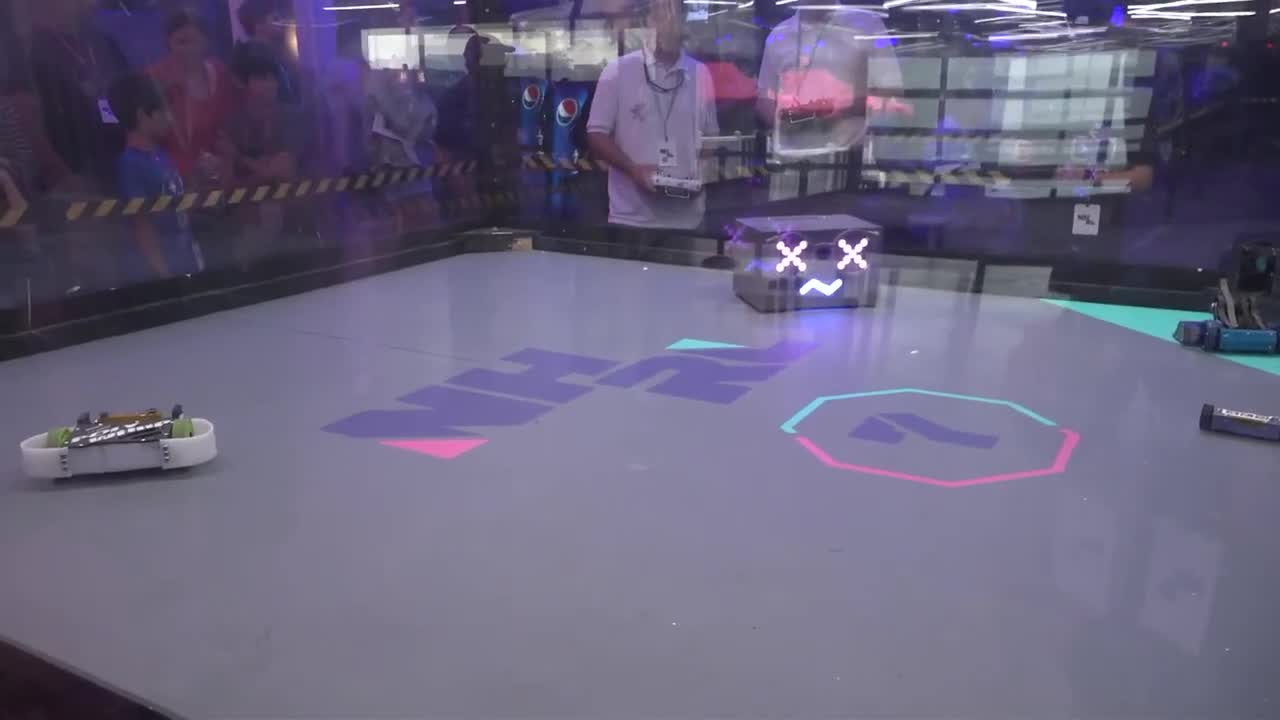combatbot: (22, 404, 223, 483), (1175, 284, 1280, 359)
housebot: (731, 213, 884, 318)
minibot: (1196, 402, 1280, 449)
